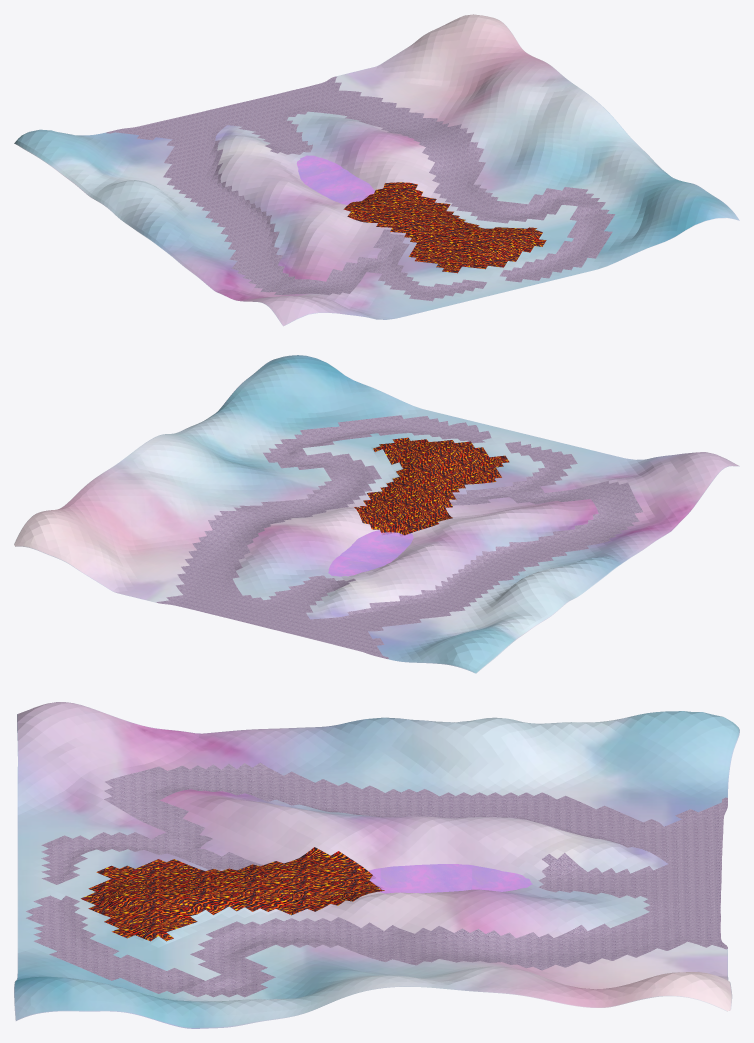
Rendered from Terreno.fbx.
3 renders of one model, top to bottom at view 1: azimuth 30°, elevation 25°; view 2: azimuth 150°, elevation 25°; view 3: azimuth 270°, elevation 25°, orthographic. The views are drawn at different scales.
Parts seen in each view (by area): view 1: Terreno, Caminos, Lava, Agua; view 2: Terreno, Caminos, Lava, Agua; view 3: Terreno, Caminos, Lava, Agua.
Part boxes in pixels (<box>): Terreno: <box>14,14,739,326</box>; Caminos: <box>106,76,615,301</box>; Lava: <box>343,182,546,273</box>; Agua: <box>296,155,374,204</box>; Terreno: <box>14,355,739,673</box>; Caminos: <box>156,415,642,658</box>; Lava: <box>354,437,509,535</box>; Agua: <box>328,530,413,576</box>; Terreno: <box>14,702,739,1028</box>; Caminos: <box>26,762,727,997</box>; Lava: <box>81,847,384,941</box>; Agua: <box>368,864,532,893</box>.
Size of the model in its own units: 57201 by 5890 by 56848.
Materials: 4 (4 with a texture image).
